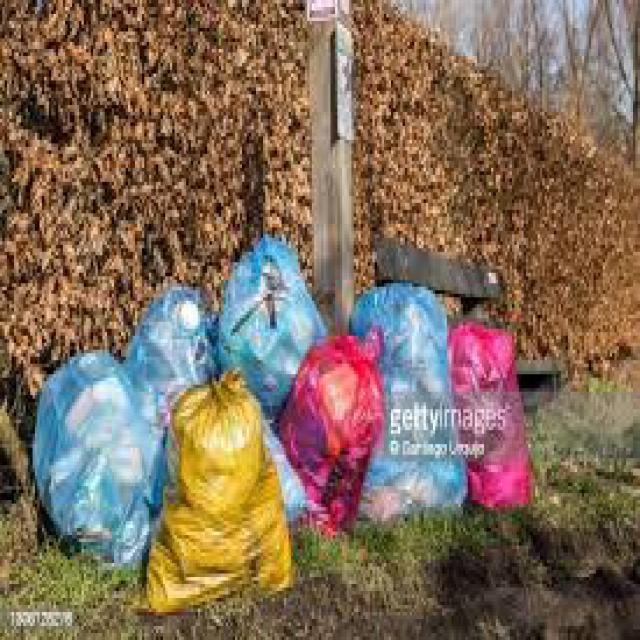waste: (148, 373, 293, 605), (32, 353, 164, 560), (358, 276, 466, 514), (286, 330, 386, 536), (218, 228, 328, 405), (454, 315, 530, 514), (115, 288, 209, 390)
